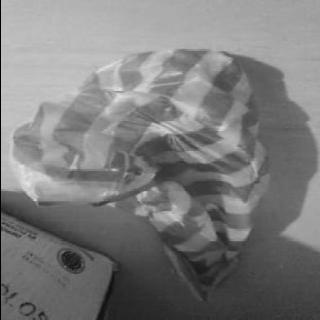objects: (12, 42, 273, 290)
